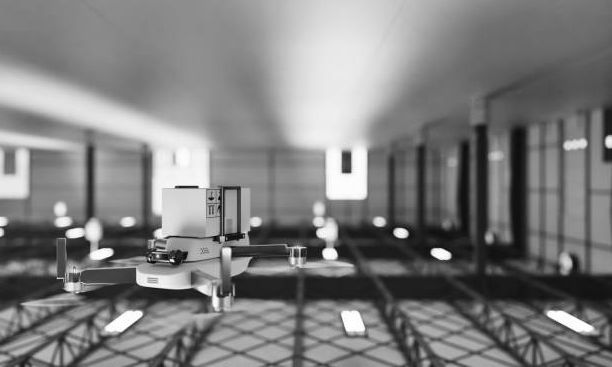Drone: (44, 232, 357, 316)
